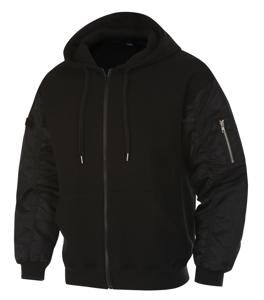C_jacket: (9, 5, 252, 298)
